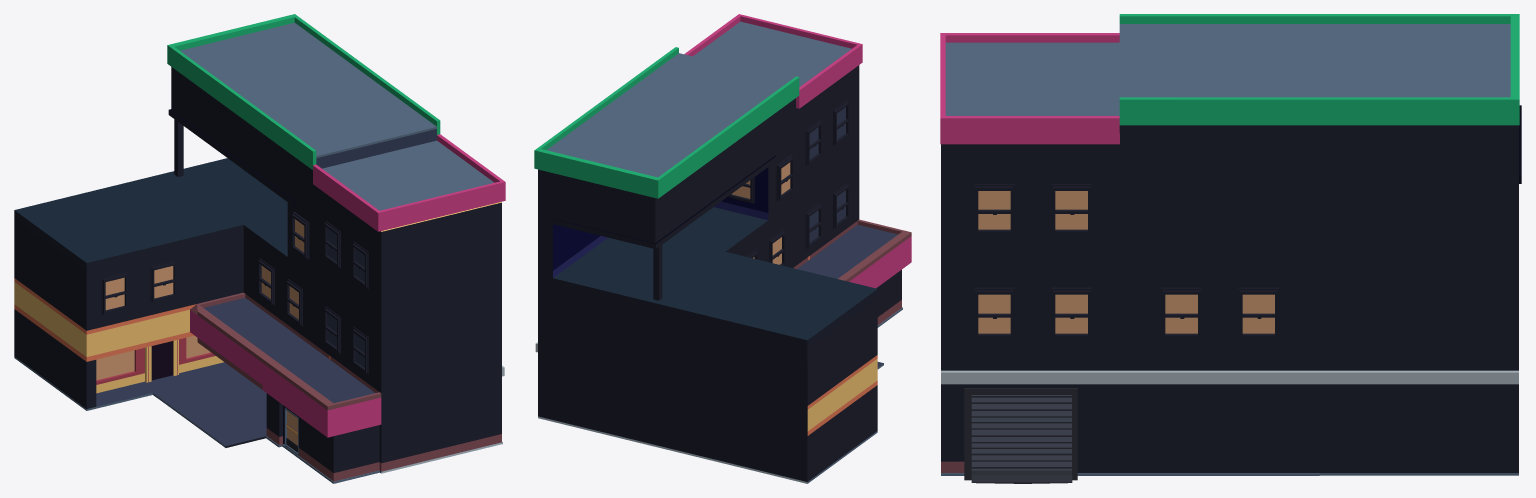
Rendered from Building_Wide04.fbx.
3 views of the same model, side by side, from view 1: azimuth 30°, elevation 25°; view 2: azimuth 150°, elevation 25°; view 3: azimuth 270°, elevation 25° (orthographic). The views are drawn at different scales.
Parts seen in each view (by area): view 1: Cube.581, Cube.582; view 2: Cube.581; view 3: Cube.581.
Part boxes in pixels (left/top/right/bottom): Cube.581: left=14, top=14, right=505, bottom=483; Cube.582: left=284, top=408, right=298, bottom=455; Cube.581: left=534, top=14, right=911, bottom=483; Cube.581: left=940, top=14, right=1521, bottom=483.
Size of the model in its own units: 1101 by 1035 by 1423.
